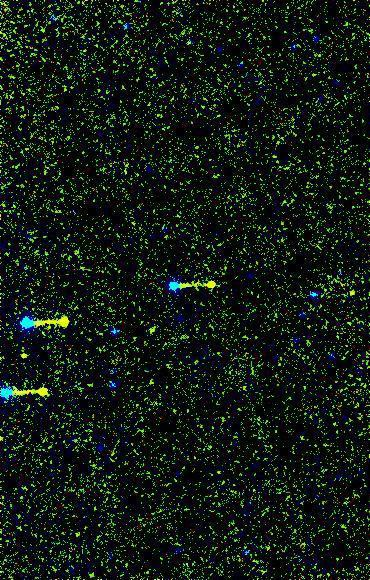star: (10, 340, 40, 370)
